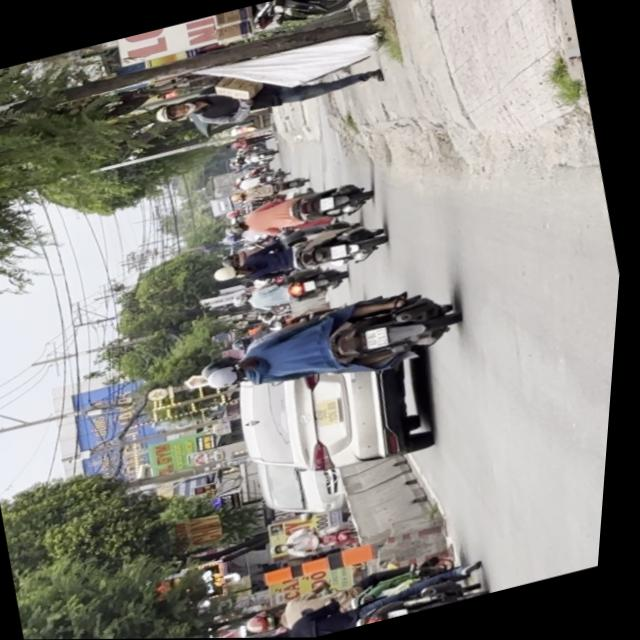helmet: (206, 362, 254, 394), (250, 610, 291, 638), (250, 631, 295, 638)
licenseplate: (182, 276, 475, 419), (240, 547, 498, 638)
nohelmet: (367, 328, 394, 351)
